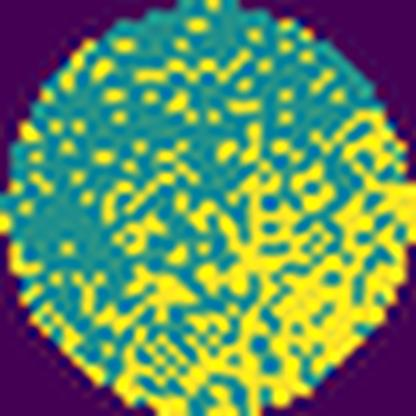Edge-Loc: (109, 110, 415, 416)
